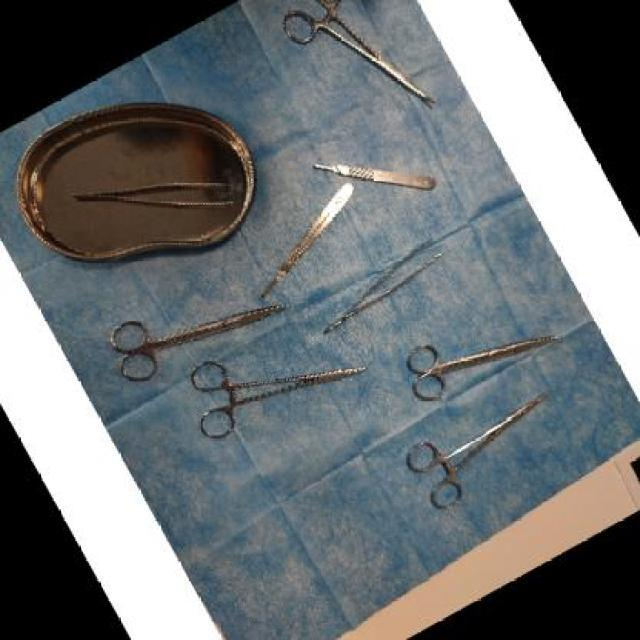tools_table: (2, 0, 584, 546)
